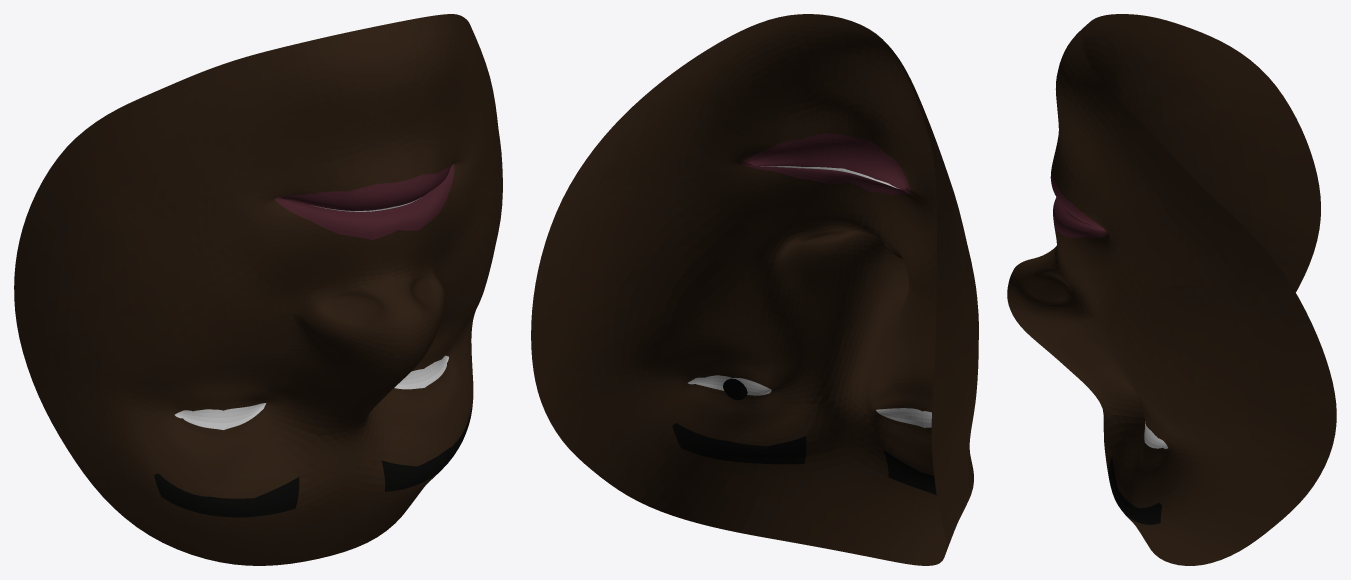
The model's file is tearsofjoy2.obj.
3 views of the same model, side by side, from view 1: azimuth 30°, elevation 25°; view 2: azimuth 150°, elevation 25°; view 3: azimuth 270°, elevation 25° (orthographic). The views are drawn at different scales.
Visible parts, largest first — view 1: face_mesh_subdivided; view 2: face_mesh_subdivided; view 3: face_mesh_subdivided.
Part boxes in pixels (x1,y1,x2,y2): face_mesh_subdivided: (14,14,502,565); face_mesh_subdivided: (531,14,978,565); face_mesh_subdivided: (1007,14,1336,565).
Size of the model in its own units: 0.6071 by 0.7398 by 0.4411.
